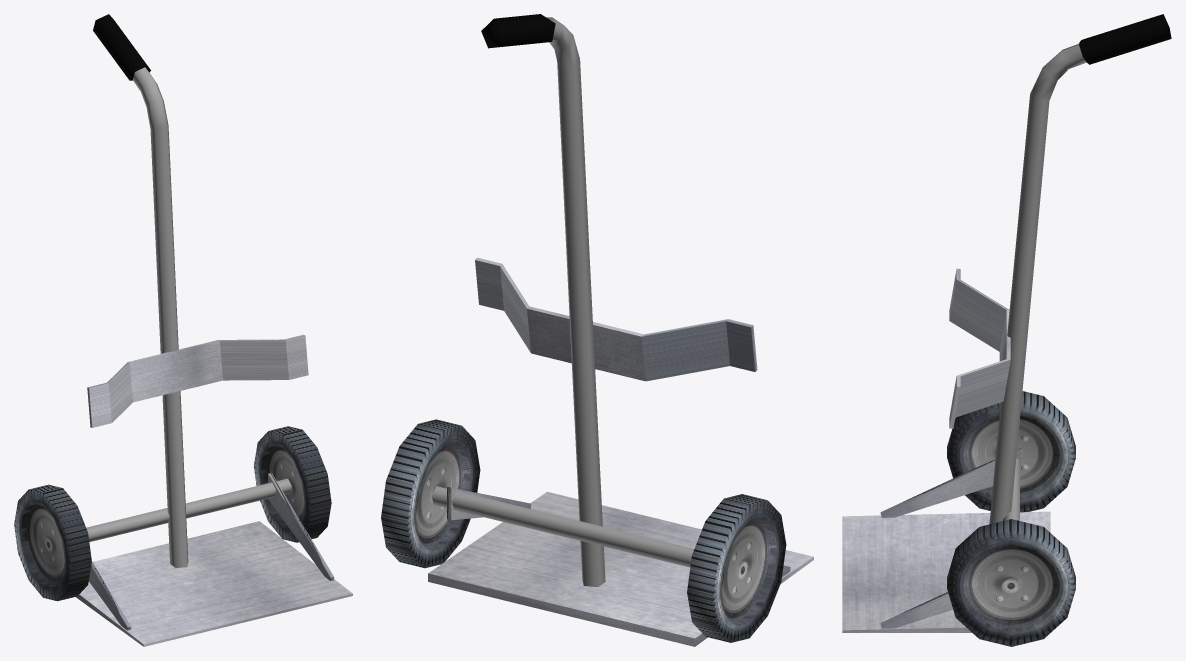
File: hand_truck_dolly1.fbx
3 renders of one model, left to right at view 1: azimuth 30°, elevation 25°; view 2: azimuth 150°, elevation 25°; view 3: azimuth 270°, elevation 25°, orthographic. The views are drawn at different scales.
Visible parts, largest first — view 1: base, handle, support, wheel1, wheel2, bar, connectingplate2, connecting_plate1; view 2: base, handle, support, wheel1, wheel2, bar, connectingplate2; view 3: base, wheel2, handle, wheel1, support, connecting_plate1, connectingplate2.
Part boxes in pixels (x1,y1,x2,y2): base: (76,521,352,646); handle: (93,14,188,567); support: (87,334,308,427); wheel1: (14,484,91,601); wheel2: (254,426,331,542); bar: (86,478,291,541); connectingplate2: (268,473,334,580); connecting_plate1: (89,562,131,630); base: (428,491,813,646); handle: (481,14,605,587); support: (475,257,757,381); wheel1: (687,494,786,642); wheel2: (381,419,480,568); bar: (432,486,694,567); connectingplate2: (447,487,531,520); base: (842,511,1050,632); wheel2: (947,519,1075,646); handle: (989,14,1171,524); wheel1: (947,391,1075,512); support: (949,268,1010,428); connecting_plate1: (880,447,1020,517); connectingplate2: (880,592,952,628).
Size of the model in its own units: 1.97 by 3.64 by 1.94.
3 materials, 1 textured.
